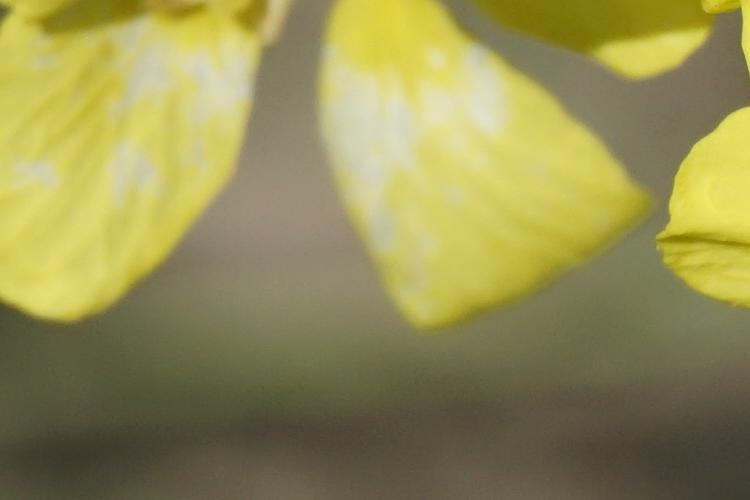yellow: (24, 20, 687, 339)
